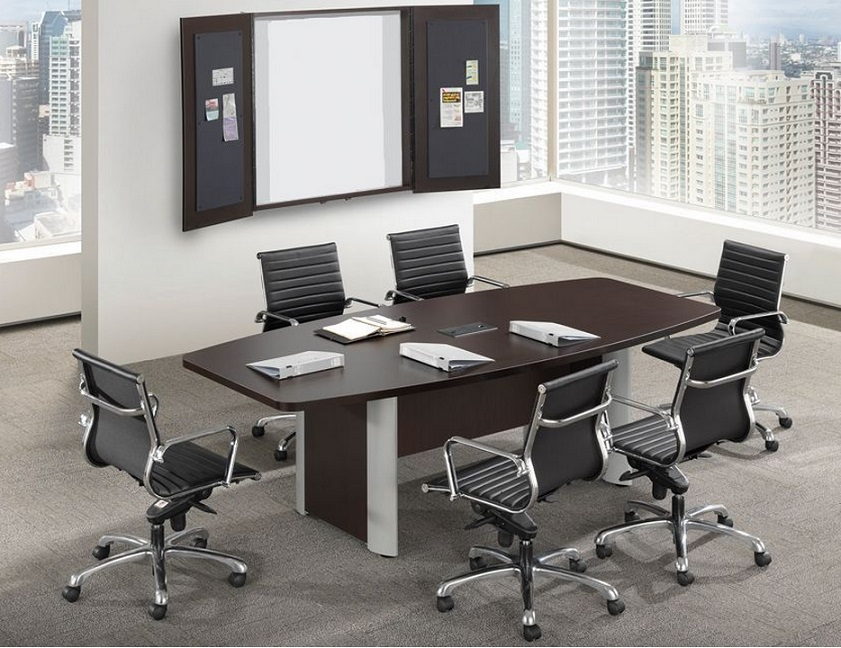conference_table: (184, 277, 720, 558)
